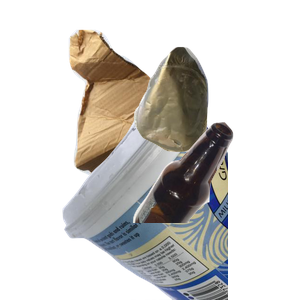cardboard: (66, 27, 242, 197)
glass: (130, 120, 300, 300)
plastic: (60, 120, 300, 300)
trash: (131, 44, 300, 189)
